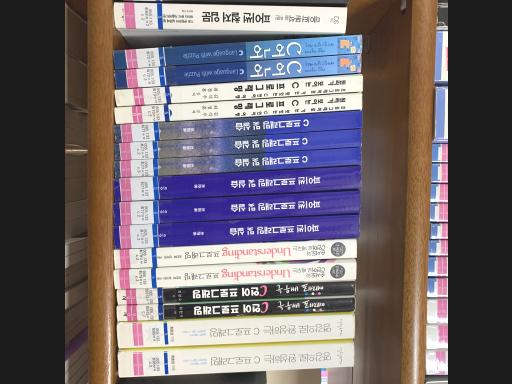book-spine: (112, 166, 360, 202), (113, 54, 360, 90), (112, 35, 360, 70), (112, 214, 359, 249), (112, 191, 360, 225), (117, 343, 353, 378), (114, 128, 360, 161), (116, 315, 353, 349), (113, 75, 361, 107), (114, 111, 361, 143), (114, 93, 361, 124), (114, 147, 360, 178), (113, 239, 355, 269), (113, 4, 347, 33), (113, 262, 356, 289), (115, 297, 354, 322), (117, 281, 354, 305)
